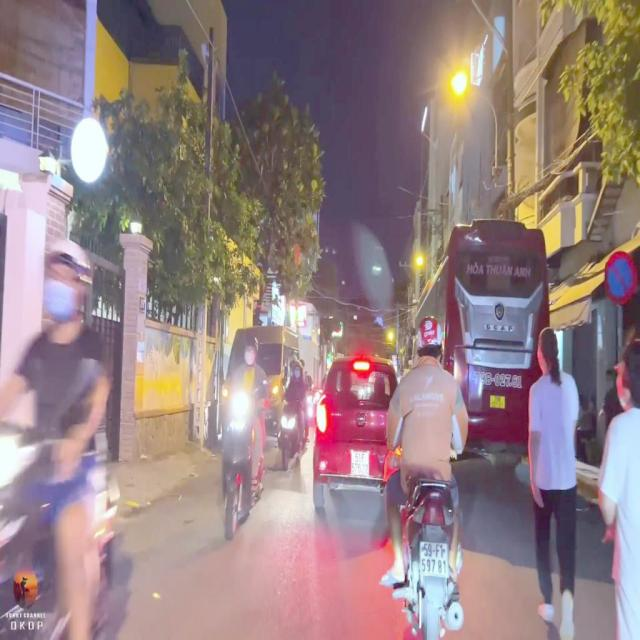cam_do_xe: (605, 248, 637, 306)
